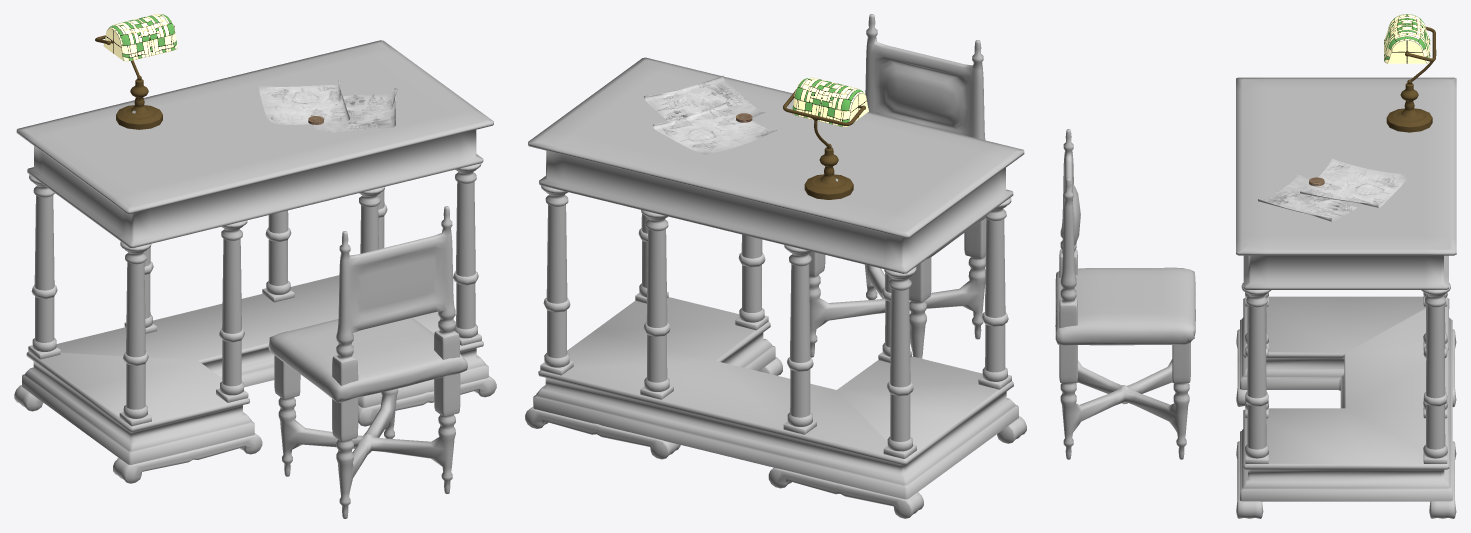
File: oldDesk.gltf
3 renders of one model, left to right at view 1: azimuth 30°, elevation 25°; view 2: azimuth 150°, elevation 25°; view 3: azimuth 270°, elevation 25°, orthographic. The views are drawn at different scales.
Visible parts, largest first — view 1: BIROU_LP, SCAUN_LP, polySurface1_Lamp_0, foaie1, foaie2; view 2: BIROU_LP, SCAUN_LP, polySurface1_Lamp_0, foaie1, foaie2; view 3: BIROU_LP, SCAUN_LP, polySurface1_Lamp_0, foaie1, foaie2.
Part boxes in pixels (x1,y1,x2,y2): BIROU_LP: (14, 40, 496, 483); SCAUN_LP: (268, 206, 467, 518); polySurface1_Lamp_0: (95, 14, 177, 129); foaie1: (258, 80, 349, 124); foaie2: (314, 88, 397, 132); BIROU_LP: (525, 57, 1026, 518); SCAUN_LP: (808, 14, 986, 358); polySurface1_Lamp_0: (783, 77, 868, 199); foaie1: (653, 102, 776, 154); foaie2: (644, 75, 765, 121); BIROU_LP: (1236, 77, 1456, 518); SCAUN_LP: (1055, 129, 1195, 459); polySurface1_Lamp_0: (1384, 14, 1436, 132); foaie1: (1300, 158, 1409, 208); foaie2: (1258, 174, 1357, 222).
Size of the model in its own units: 2.97 by 2.89 by 2.83.
